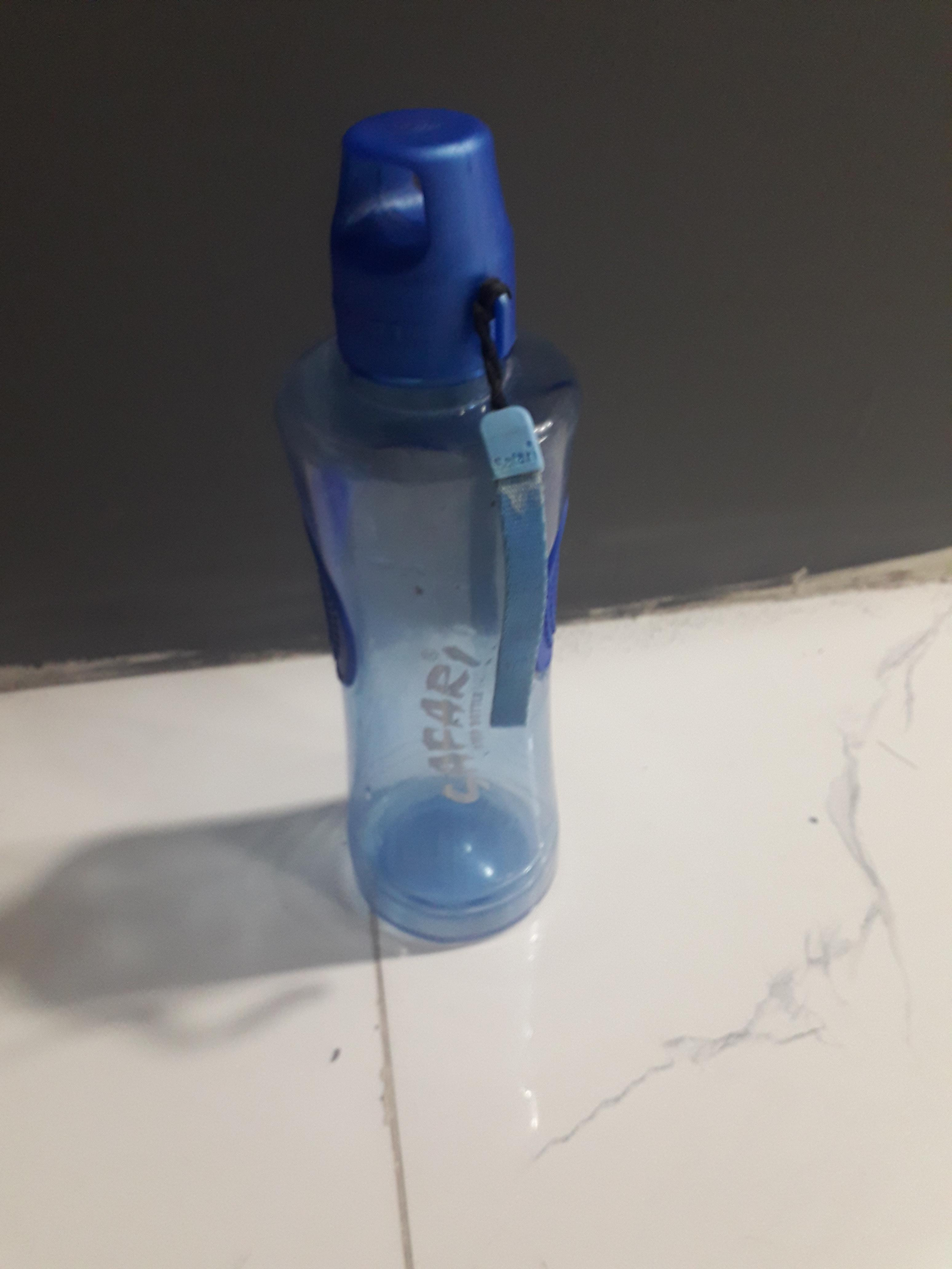gym bottle: (266, 99, 593, 946)
